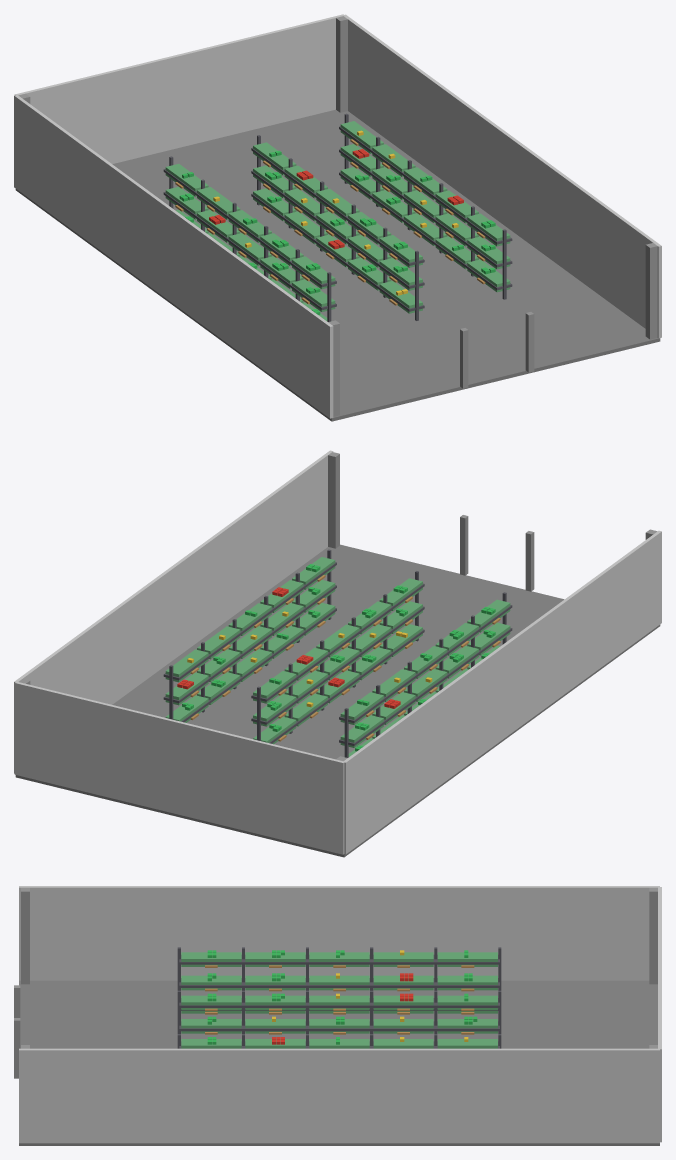
The model's file is LAYOUT ESTOQUE 3D.glb.
3 renders of one model, top to bottom at view 1: azimuth 30°, elevation 25°; view 2: azimuth 150°, elevation 25°; view 3: azimuth 270°, elevation 25°, orthographic.
Visible parts, largest first — view 1: IfcBuildingElementProxy/PISO_GALPAO, IfcBuildingElementProxy/PAREDE_ESQUERDA, IfcBuildingElementProxy/PAREDE_DIREITA, IfcBuildingElementProxy/PAREDE_FUNDO, IfcBuildingElementProxy/PILAR_02, IfcBuildingElementProxy/PILAR_04, IfcBuildingElementProxy/PILAR_01, IfcBuildingElementProxy/RACK_C_TRAVESSA_02, IfcBuildingElementProxy/RACK_C_TRAVESSA_03, IfcBuildingElementProxy/RACK_C_TRAVESSA_01, IfcBuildingElementProxy/RACK_B_TRAVESSA_03, IfcBuildingElementProxy/RACK_A_TRAVESSA_02 (+4 smaller); view 2: IfcBuildingElementProxy/PAREDE_FUNDO, IfcBuildingElementProxy/PAREDE_ESQUERDA, IfcBuildingElementProxy/PAREDE_DIREITA, IfcBuildingElementProxy/PISO_GALPAO, IfcBuildingElementProxy/PILAR_02, IfcBuildingElementProxy/RACK_C_TRAVESSA_02, IfcBuildingElementProxy/RACK_C_TRAVESSA_03, IfcBuildingElementProxy/RACK_A_TRAVESSA_02, IfcBuildingElementProxy/RACK_B_TRAVESSA_03, IfcBuildingElementProxy/RACK_A_TRAVESSA_03, IfcBuildingElementProxy/RACK_B_TRAVESSA_02, IfcBuildingElementProxy/RACK_C_TRAVESSA_01 (+3 smaller); view 3: IfcBuildingElementProxy/PAREDE_DIREITA, IfcBuildingElementProxy/PAREDE_ESQUERDA, IfcBuildingElementProxy/PISO_GALPAO, IfcBuildingElementProxy/RACK_B_TRAVESSA_02, IfcBuildingElementProxy/RACK_A_TRAVESSA_02, IfcBuildingElementProxy/RACK_A_TRAVESSA_03, IfcBuildingElementProxy/RACK_B_TRAVESSA_03, IfcBuildingElementProxy/PILAR_01, IfcBuildingElementProxy/PILAR_03, IfcBuildingElementProxy/PAREDE_FUNDO, IfcBuildingElementProxy/B03-N03, IfcBuildingElementProxy/B05-N03 (+23 smaller).
Boxes of the visible parts, bbox=[...] form: IfcBuildingElementProxy/PISO_GALPAO: bbox=[15, 109, 660, 421]; IfcBuildingElementProxy/PAREDE_ESQUERDA: bbox=[14, 95, 333, 418]; IfcBuildingElementProxy/PAREDE_DIREITA: bbox=[343, 14, 661, 338]; IfcBuildingElementProxy/PAREDE_FUNDO: bbox=[14, 14, 344, 163]; IfcBuildingElementProxy/PILAR_02: bbox=[645, 243, 657, 339]; IfcBuildingElementProxy/PILAR_04: bbox=[336, 16, 347, 112]; IfcBuildingElementProxy/PILAR_01: bbox=[328, 320, 339, 416]; IfcBuildingElementProxy/RACK_C_TRAVESSA_02: bbox=[339, 149, 512, 267]; IfcBuildingElementProxy/RACK_C_TRAVESSA_03: bbox=[339, 126, 512, 244]; IfcBuildingElementProxy/RACK_C_TRAVESSA_01: bbox=[339, 172, 512, 290]; IfcBuildingElementProxy/RACK_B_TRAVESSA_03: bbox=[251, 147, 424, 265]; IfcBuildingElementProxy/RACK_A_TRAVESSA_02: bbox=[163, 192, 336, 309]; IfcBuildingElementProxy/PAREDE_FUNDO: bbox=[14, 681, 344, 854]; IfcBuildingElementProxy/PAREDE_ESQUERDA: bbox=[344, 530, 661, 854]; IfcBuildingElementProxy/PAREDE_DIREITA: bbox=[14, 450, 333, 773]; IfcBuildingElementProxy/PISO_GALPAO: bbox=[15, 544, 660, 857]; IfcBuildingElementProxy/PILAR_02: bbox=[328, 452, 339, 548]; IfcBuildingElementProxy/RACK_C_TRAVESSA_02: bbox=[163, 585, 336, 703]; IfcBuildingElementProxy/RACK_C_TRAVESSA_03: bbox=[163, 562, 336, 680]; IfcBuildingElementProxy/RACK_A_TRAVESSA_02: bbox=[339, 627, 512, 745]; IfcBuildingElementProxy/RACK_B_TRAVESSA_03: bbox=[251, 583, 424, 701]; IfcBuildingElementProxy/RACK_A_TRAVESSA_03: bbox=[339, 605, 512, 722]; IfcBuildingElementProxy/RACK_B_TRAVESSA_02: bbox=[251, 606, 424, 724]; IfcBuildingElementProxy/RACK_C_TRAVESSA_01: bbox=[181, 608, 336, 722]; IfcBuildingElementProxy/PAREDE_DIREITA: bbox=[19, 1048, 659, 1143]; IfcBuildingElementProxy/PAREDE_ESQUERDA: bbox=[19, 886, 659, 980]; IfcBuildingElementProxy/PISO_GALPAO: bbox=[19, 980, 659, 1145]; IfcBuildingElementProxy/RACK_B_TRAVESSA_02: bbox=[179, 1021, 499, 1031]; IfcBuildingElementProxy/RACK_A_TRAVESSA_02: bbox=[179, 978, 499, 987]; IfcBuildingElementProxy/RACK_A_TRAVESSA_03: bbox=[179, 955, 499, 964]; IfcBuildingElementProxy/RACK_B_TRAVESSA_03: bbox=[179, 998, 499, 1007]; IfcBuildingElementProxy/PILAR_01: bbox=[21, 887, 29, 984]; IfcBuildingElementProxy/PILAR_03: bbox=[649, 887, 657, 984]; IfcBuildingElementProxy/PAREDE_FUNDO: bbox=[658, 887, 661, 1142]; IfcBuildingElementProxy/B03-N03: bbox=[309, 995, 369, 1010]; IfcBuildingElementProxy/B05-N03: bbox=[437, 995, 497, 1010].
Size of the model in its own units: 30.3 by 8.3 by 50.55.
